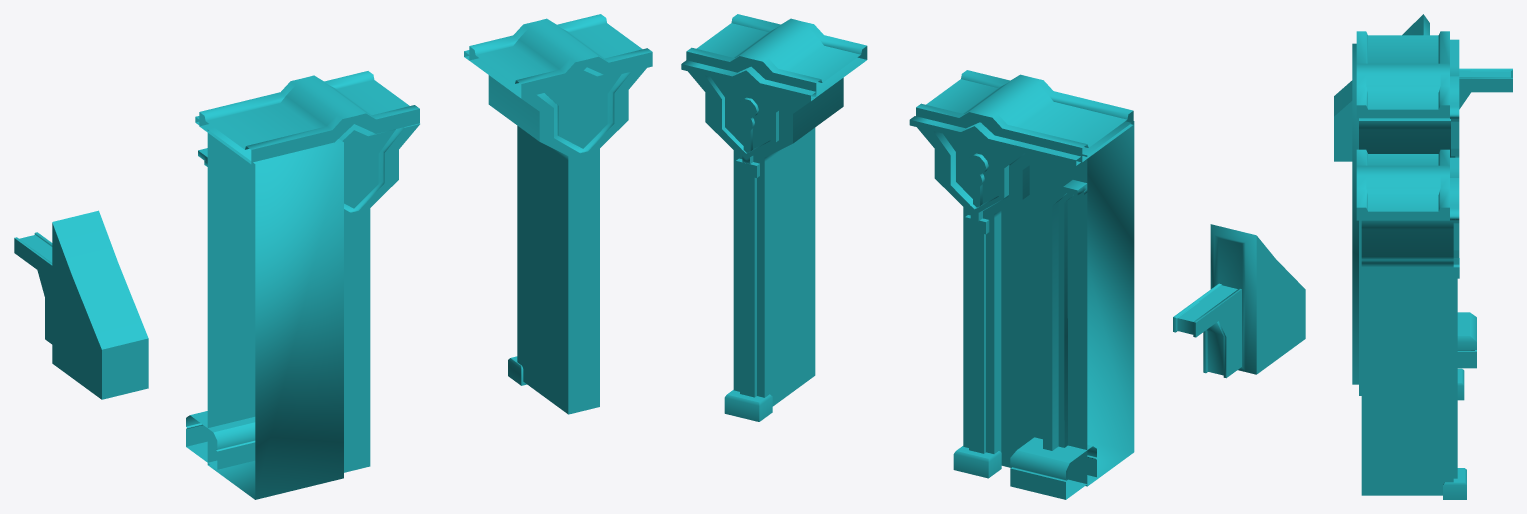
File: uvgroup05_unity.fbx
3 views of the same model, side by side, from view 1: azimuth 30°, elevation 25°; view 2: azimuth 150°, elevation 25°; view 3: azimuth 270°, elevation 25° (orthographic). The views are drawn at different scales.
Visible parts, largest first — view 1: Temple_Wall_parts01_05_low, Temple_Wall_parts02_00_low, Temple_Wall_parts03_01_low, Temple_Wall_parts01_03_low, Temple_Wall_parts02_03_low, Temple_Wall_parts01_00_low, Temple_Wall_parts02_01_low, Temple_Wall_parts01_01_low, Temple_Wall_parts03_02_low; view 2: Temple_Wall_parts01_05_low, Temple_Wall_parts02_00_low, Temple_Wall_parts01_03_low, Temple_Wall_parts03_01_low, Temple_Wall_parts02_03_low, Temple_Wall_parts03_02_low (×2), Temple_Wall_parts01_00_low, Temple_Wall_parts01_04_low, Temple_Wall_parts02_04_low, Temple_Wall_parts02_02_low, Temple_Wall_parts02_01_low, Temple_Wall_parts01_01_low; view 3: Temple_Wall_parts02_00_low, Temple_Wall_parts01_03_low, Temple_Wall_parts02_03_low, Temple_Wall_parts01_00_low, Temple_Wall_parts01_05_low, Temple_Wall_parts03_02_low (×2), Temple_Wall_parts03_01_low, Temple_Wall_parts02_04_low, Temple_Wall_parts02_02_low, Temple_Wall_parts01_04_low.
Part boxes in pixels (x1,y1,x2,y2): Temple_Wall_parts01_05_low: (186,127,343,499); Temple_Wall_parts02_00_low: (467,59,646,414); Temple_Wall_parts03_01_low: (52,210,148,399); Temple_Wall_parts01_03_low: (199,71,419,164); Temple_Wall_parts02_03_low: (469,14,652,98); Temple_Wall_parts01_00_low: (344,123,419,472); Temple_Wall_parts02_01_low: (545,68,621,148); Temple_Wall_parts01_01_low: (339,126,395,208); Temple_Wall_parts03_02_low: (14,232,52,344); Temple_Wall_parts01_05_low: (1001,121,1134,499); Temple_Wall_parts02_00_low: (688,67,854,406); Temple_Wall_parts01_03_low: (916,70,1133,162); Temple_Wall_parts03_01_low: (1210,224,1305,374); Temple_Wall_parts02_03_low: (686,14,867,96); Temple_Wall_parts03_02_low (×2): (909,116,1241,378); Temple_Wall_parts01_00_low: (917,122,1040,453); Temple_Wall_parts01_04_low: (953,153,1001,478); Temple_Wall_parts02_04_low: (724,97,772,421); Temple_Wall_parts02_02_low: (681,60,816,163); Temple_Wall_parts02_01_low: (710,69,786,148); Temple_Wall_parts01_01_low: (943,124,1015,203); Temple_Wall_parts02_00_low: (1361,220,1453,495); Temple_Wall_parts01_03_low: (1356,31,1449,118); Temple_Wall_parts02_03_low: (1356,149,1449,220); Temple_Wall_parts01_00_low: (1359,118,1450,395); Temple_Wall_parts01_05_low: (1352,43,1476,384); Temple_Wall_parts03_02_low (×2): (1450,39,1512,157); Temple_Wall_parts03_01_low: (1334,14,1429,161); Temple_Wall_parts02_04_low: (1443,258,1466,499); Temple_Wall_parts02_02_low: (1450,157,1459,264); Temple_Wall_parts01_04_low: (1451,156,1464,400).
Size of the model in its own units: 11556 by 7039 by 3532.
